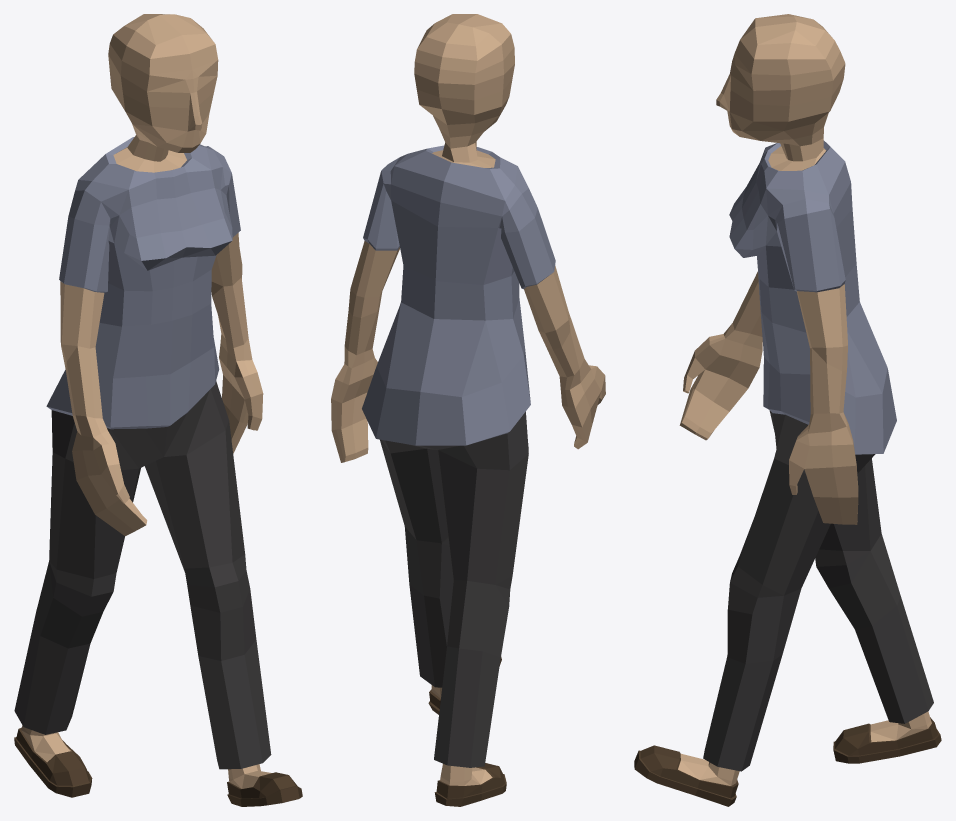
Rendered from Female_Walking.glb.
3 renders of one model, left to right at view 1: azimuth 30°, elevation 25°; view 2: azimuth 150°, elevation 25°; view 3: azimuth 270°, elevation 25°, orthographic. The views are drawn at different scales.
Parts seen in each view (by area): view 1: Female_Walking; view 2: Female_Walking; view 3: Female_Walking.
Boxes of the visible parts, x1,y1,x2,y2 form: Female_Walking: (14,14,302,806); Female_Walking: (331,14,605,806); Female_Walking: (634,14,941,806).
Bounding box in the file's own units: 1.06 × 3.71 × 1.35.
